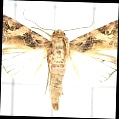Spodoptera litura: (2, 8, 117, 111)
